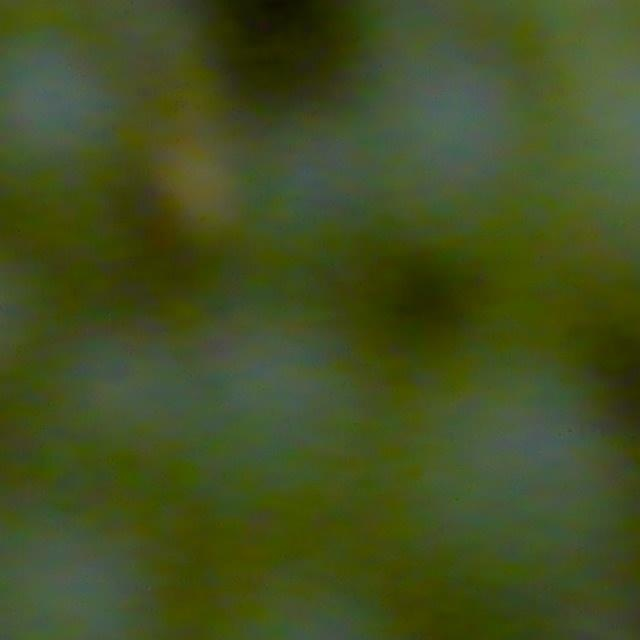SeaGrape: (360, 341, 639, 583), (193, 296, 380, 546), (348, 67, 552, 275), (0, 6, 152, 218), (44, 333, 214, 491)
